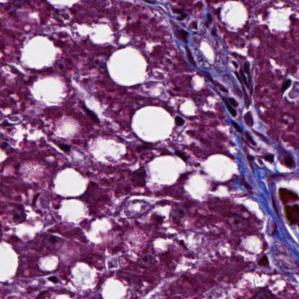steatosis: (106, 44, 150, 89), (132, 106, 175, 141), (22, 34, 56, 70)
